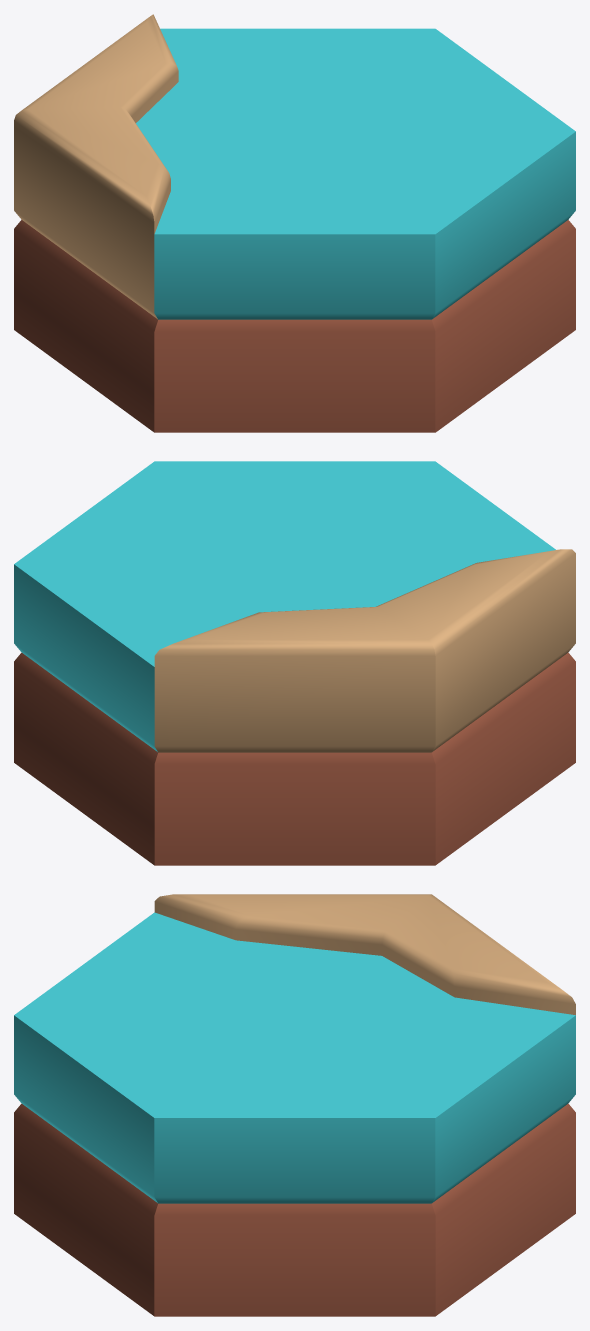
File: hex_sand_waterA_detail.glb
The picture shows the model from 3 angles, top to bottom: view 1: azimuth 30°, elevation 25°; view 2: azimuth 150°, elevation 25°; view 3: azimuth 270°, elevation 25°; orthographic projection.
Visible parts, largest first — view 1: hex_sand_waterA_detail; view 2: hex_sand_waterA_detail; view 3: hex_sand_waterA_detail.
Part boxes in pixels (left/top/right/bottom): hex_sand_waterA_detail: left=14, top=14, right=575, bottom=432; hex_sand_waterA_detail: left=14, top=461, right=575, bottom=865; hex_sand_waterA_detail: left=14, top=894, right=575, bottom=1316.
Bounding box in the file's own units: 3.82 × 1.91 × 4.41.
